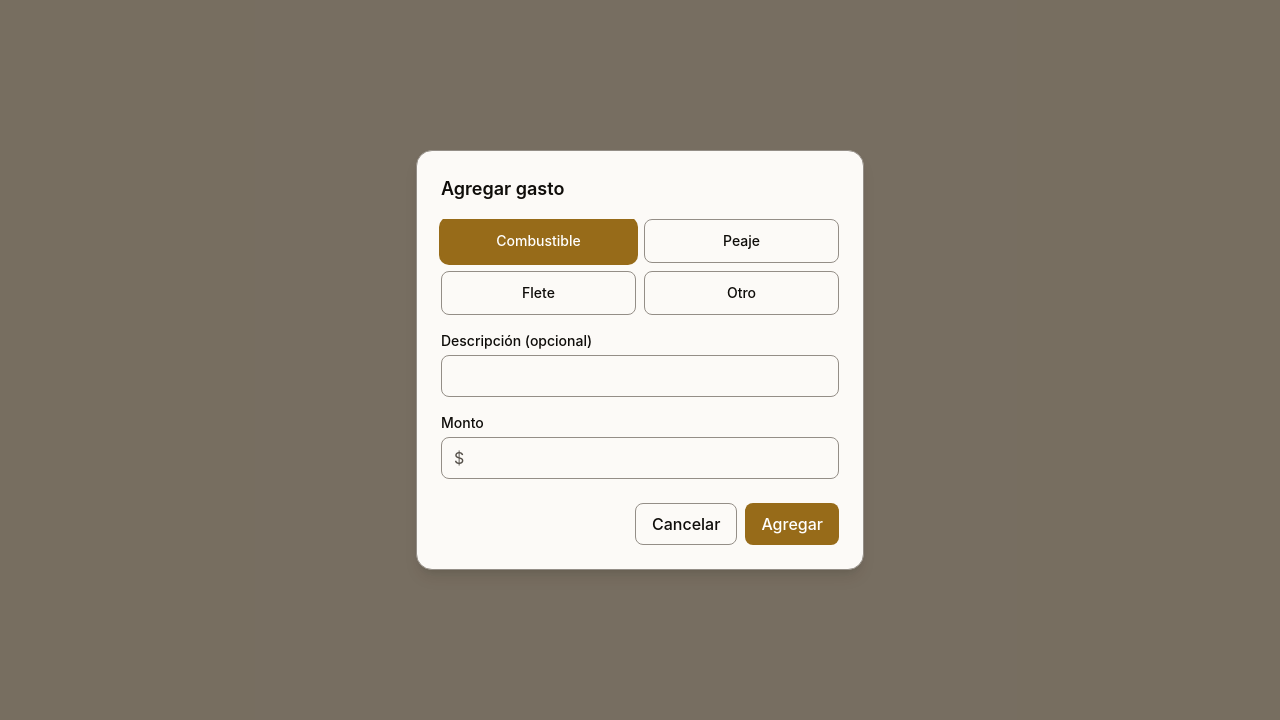
it: ModalGastoCompra › sin monto: no confirma y marca el error
Step 1. Click the button "Agregar" → (792, 524), box [745,503,839,545]
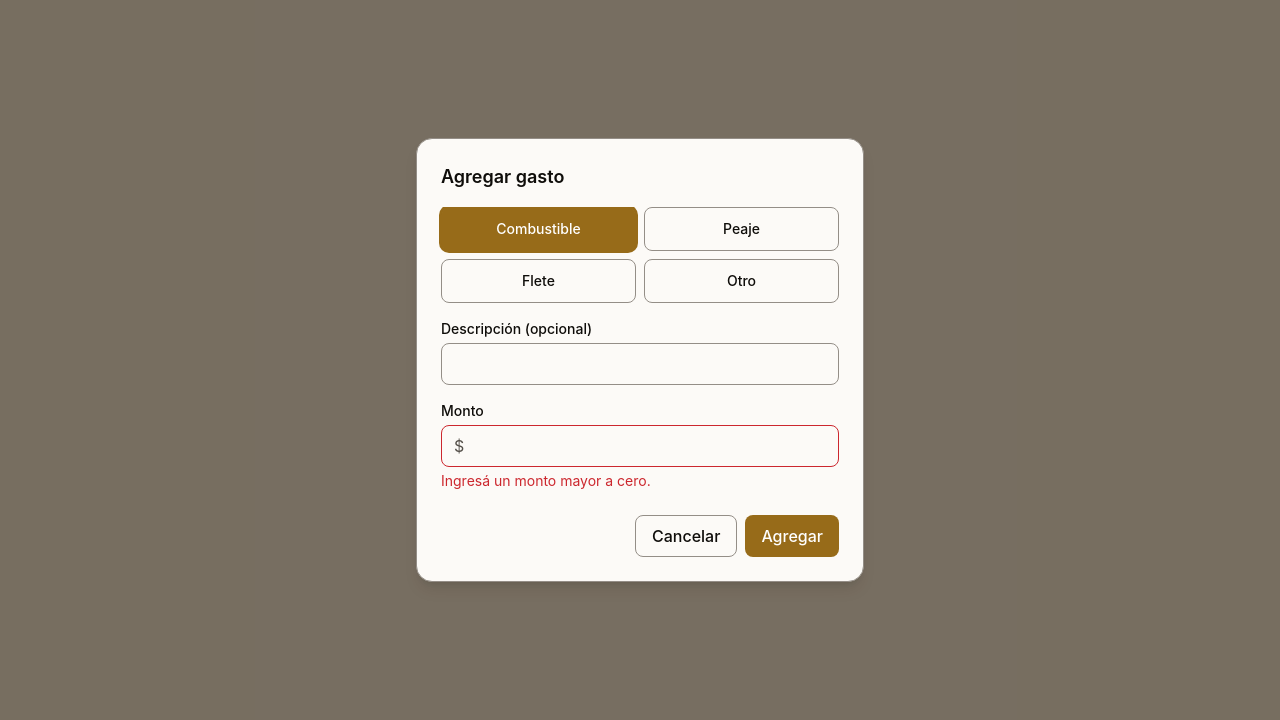
Expected: the text "Ingresá un monto mayor a cero." is shown, [441,472,651,489]
